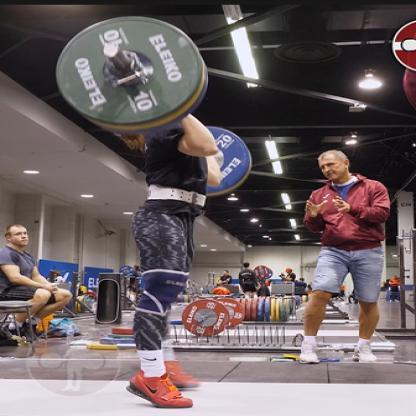Barbell: (102, 41, 123, 60)
